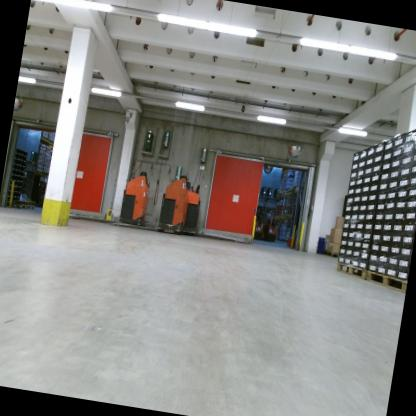pallet: (364, 267, 408, 293), (331, 258, 369, 284), (322, 247, 341, 259), (18, 201, 35, 213), (9, 199, 26, 211)
pallet_truck: (113, 160, 194, 239), (176, 172, 208, 241), (249, 196, 270, 244), (262, 206, 283, 246)
